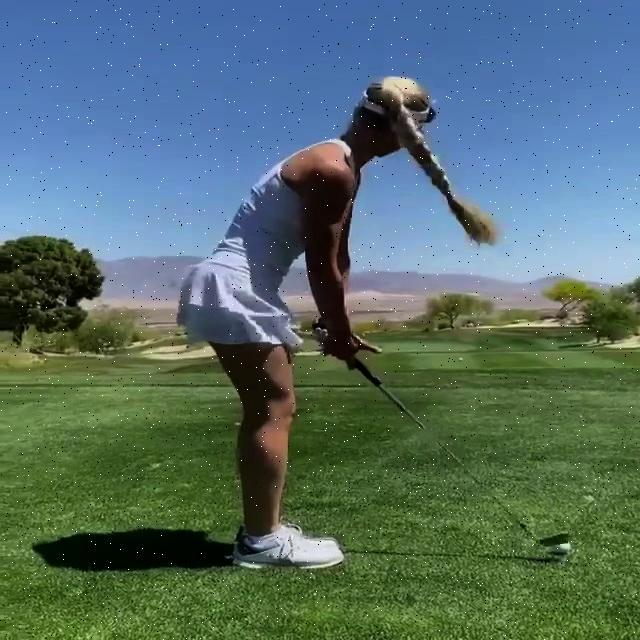golf ball: (554, 544, 577, 556)
golf club-handle: (310, 319, 575, 550)
golf club-head: (539, 532, 571, 549)
